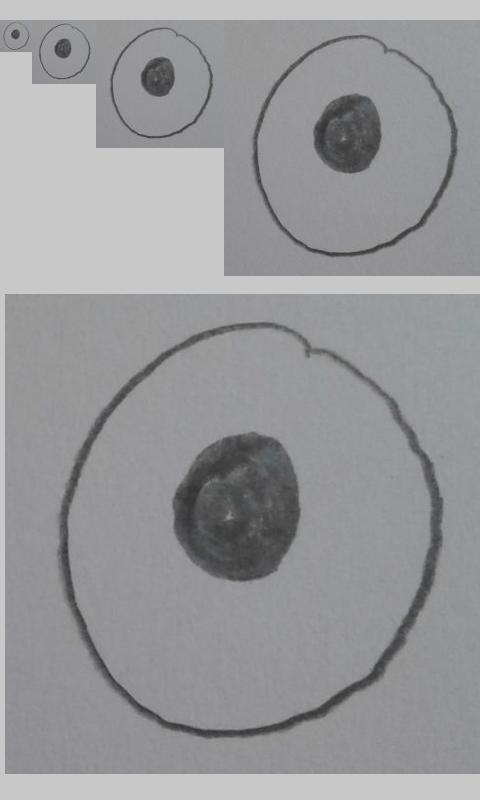radio_button: (54, 318, 448, 744), (247, 30, 458, 259), (109, 26, 215, 140), (37, 22, 92, 81), (2, 21, 30, 50)
